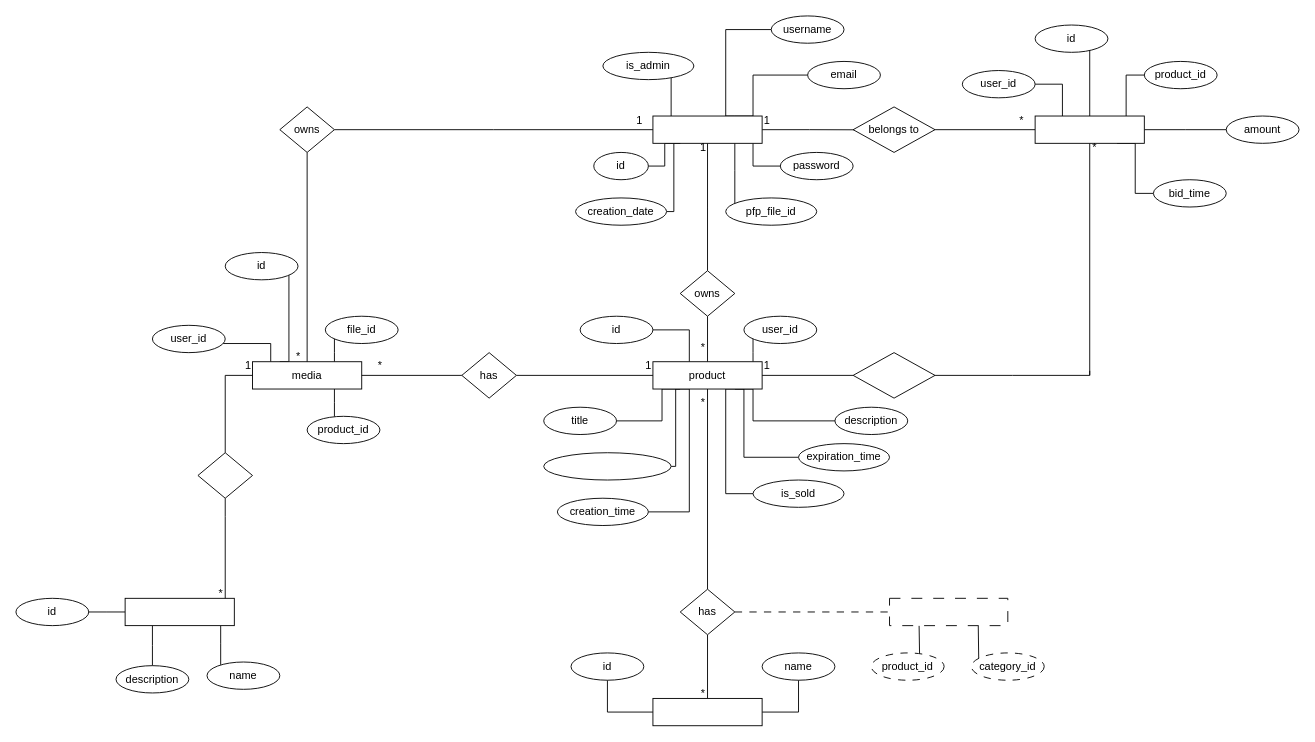
Image size: 1315x742. Some labels were removed from this diagram. The shapes that lost their labels are listed below. From the top down, each one's centre as x and y in pixels, then its label:
At [707,129]: "user".
At [1089,129]: "bid".
At [893,375]: "place bid".
At [225,475]: "is".
At [607,466]: "winner_user_id".
At [179,611]: "file".
At [948,611]: "product_category_rel".
At [707,712]: "category".
